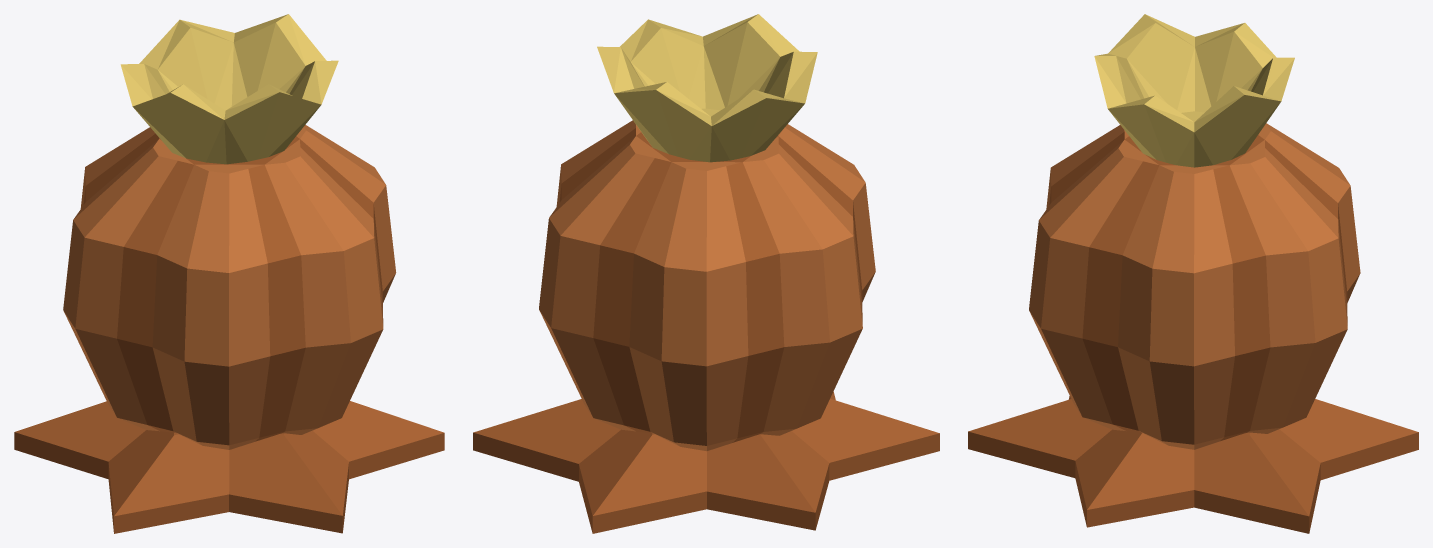
Rendered from gauranlen_pod_b.obj.
The picture shows the model from 3 angles, left to right: view 1: azimuth 30°, elevation 25°; view 2: azimuth 150°, elevation 25°; view 3: azimuth 270°, elevation 25°; orthographic projection.
Visible parts, largest first — view 1: gauranlen_pod_b; view 2: gauranlen_pod_b; view 3: gauranlen_pod_b.
Part boxes in pixels (box(x1,y1,x2,y2)): gauranlen_pod_b: box(14, 14, 444, 533); gauranlen_pod_b: box(473, 14, 939, 533); gauranlen_pod_b: box(968, 14, 1418, 533).
Bounding box in the file's own units: 0.8223 × 0.9151 × 0.9302.
